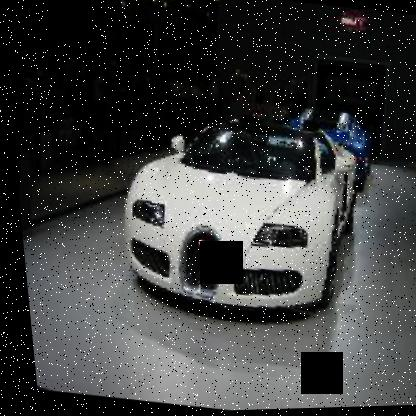not_emergency: (79, 87, 408, 374)
